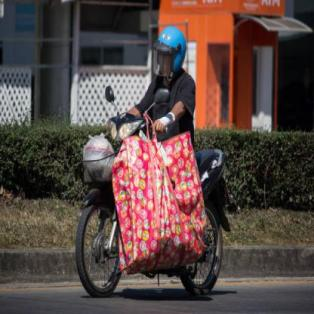Motocicleta: (74, 91, 229, 299)
